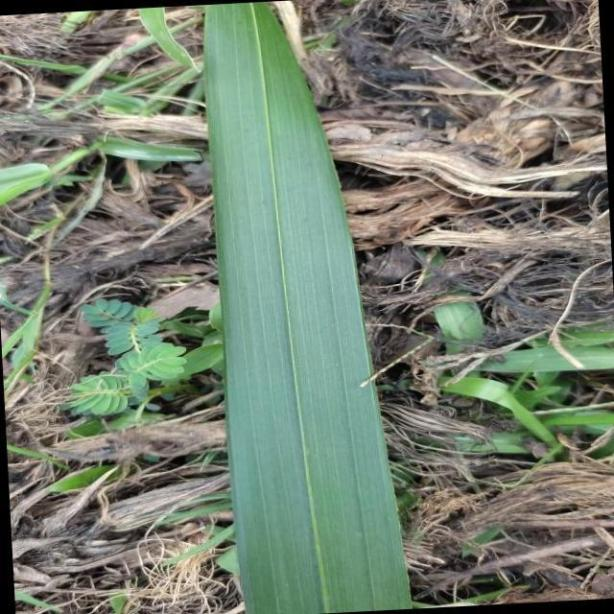Healthy: (203, 0, 415, 612)
